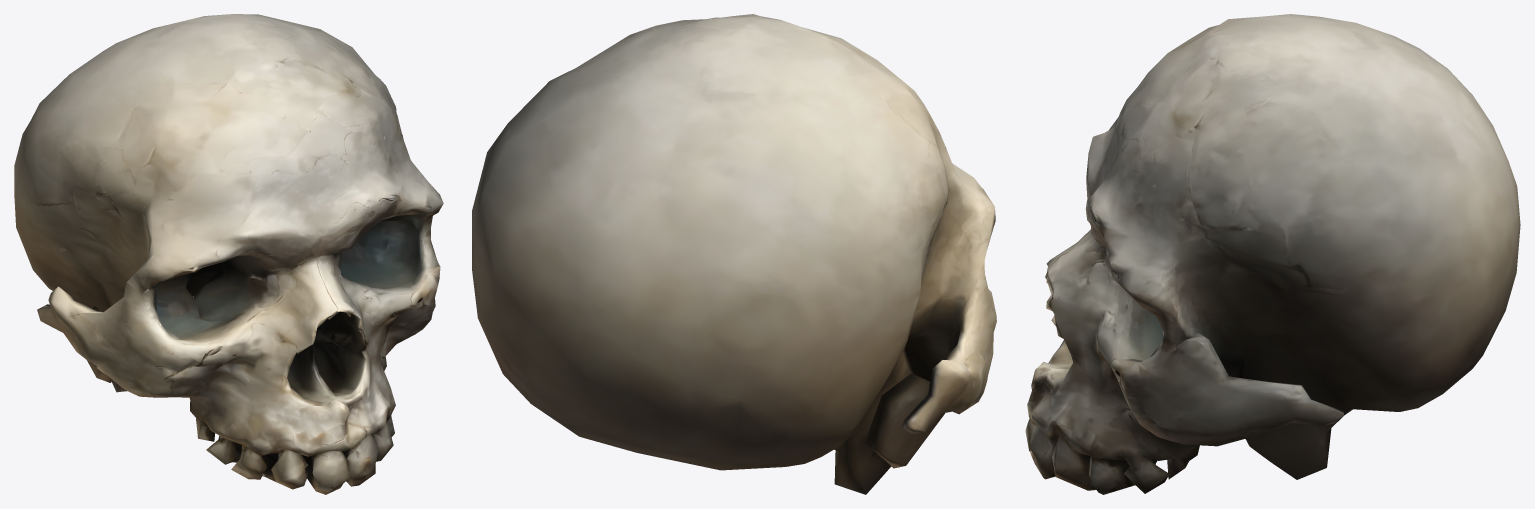
Rendered from valley_tripo_cranium.glb.
3 renders of one model, left to right at view 1: azimuth 30°, elevation 25°; view 2: azimuth 150°, elevation 25°; view 3: azimuth 270°, elevation 25°, orthographic. The views are drawn at different scales.
Visible parts, largest first — view 1: Cranial vault, orbits and maxilla; view 2: Cranial vault, orbits and maxilla; view 3: Cranial vault, orbits and maxilla.
Part boxes in pixels (x1,y1,x2,y2): Cranial vault, orbits and maxilla: (14, 14, 443, 494); Cranial vault, orbits and maxilla: (472, 14, 996, 494); Cranial vault, orbits and maxilla: (1025, 14, 1520, 494).
Bounding box in the file's own units: 1.98 × 2.01 × 2.1.
1 material, 1 textured.
